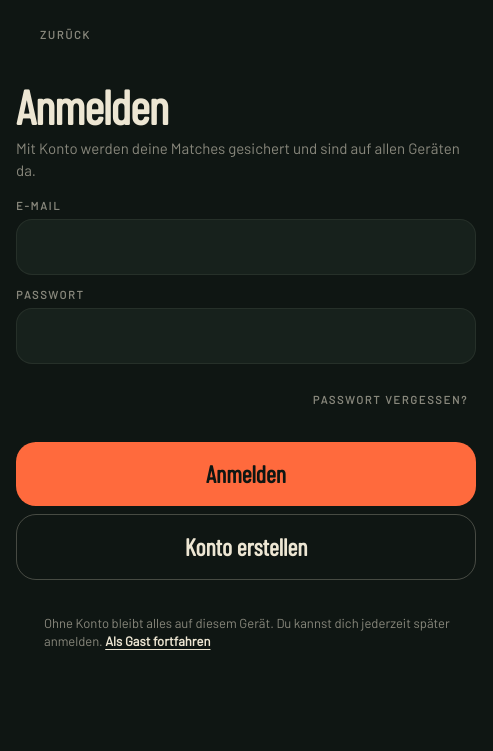
Test: AuthScreen › confirms a sign-up that still needs the e-mail link
Click the button "Konto erstellen". click: [246, 546]
box: top-left (16, 514), bottom-right (476, 580)
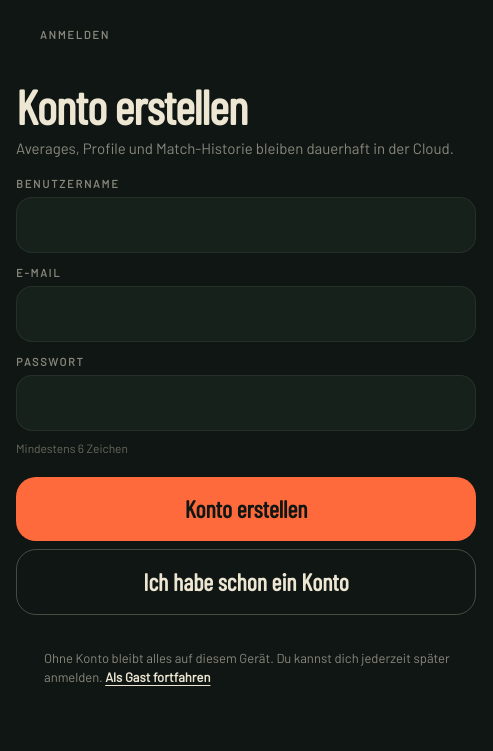
Type "Marcus" into the field labelled "Benutzername". click: [246, 225]
box: top-left (16, 197), bottom-right (476, 253)
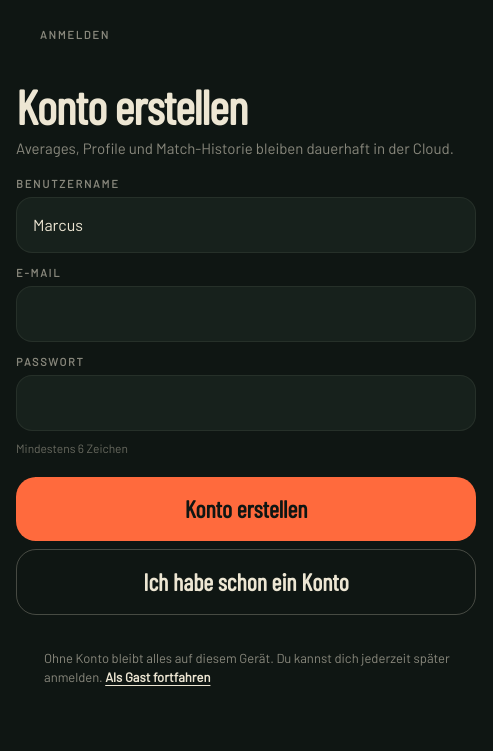
Type "marcus@beispiel.de" into the field labelled "E-Mail". click: [246, 314]
box: top-left (16, 286), bottom-right (476, 342)
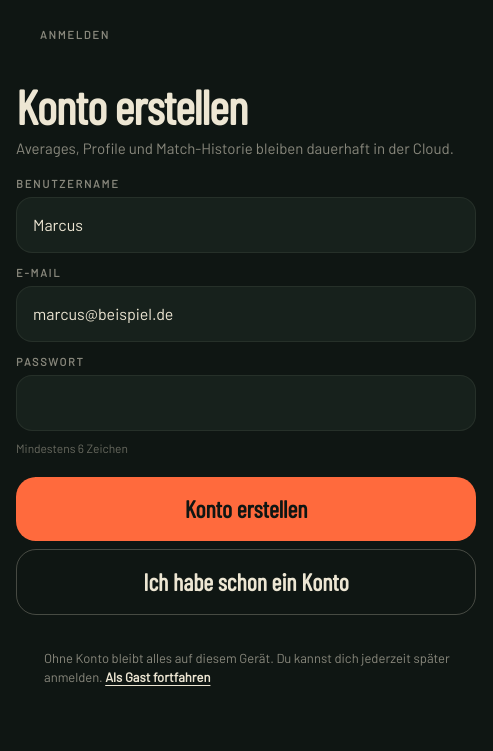
Type "geheim123" into the password field labelled "Passwort". click: [246, 403]
box: top-left (16, 375), bottom-right (476, 431)
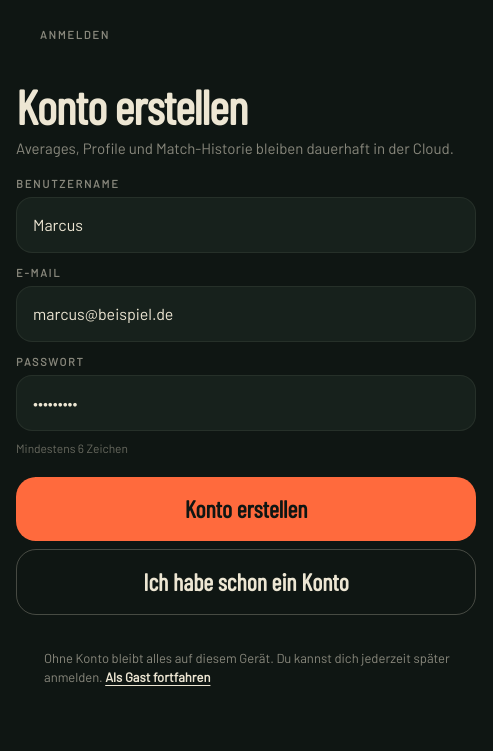
Submit the form labelled "E-Mail", box top-left (16, 178), bottom-right (476, 615)
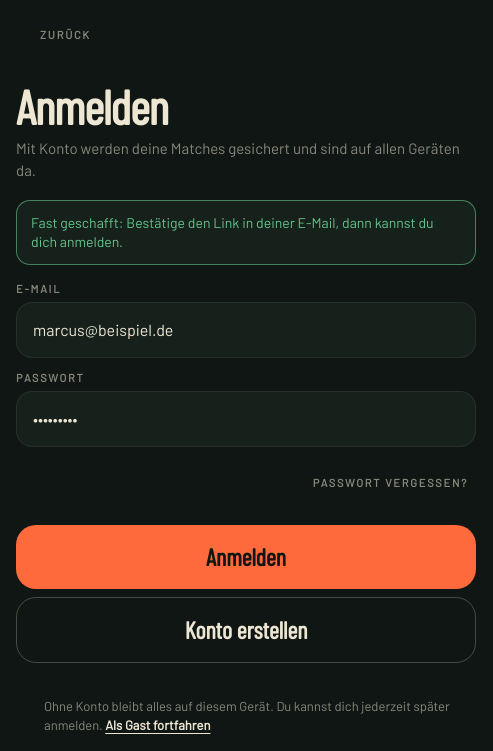
Now the message shows "Bestätige den Link", box top-left (31, 214), bottom-right (434, 250)
Now the heading "Anmelden" is shown, box top-left (16, 77), bottom-right (168, 135)
